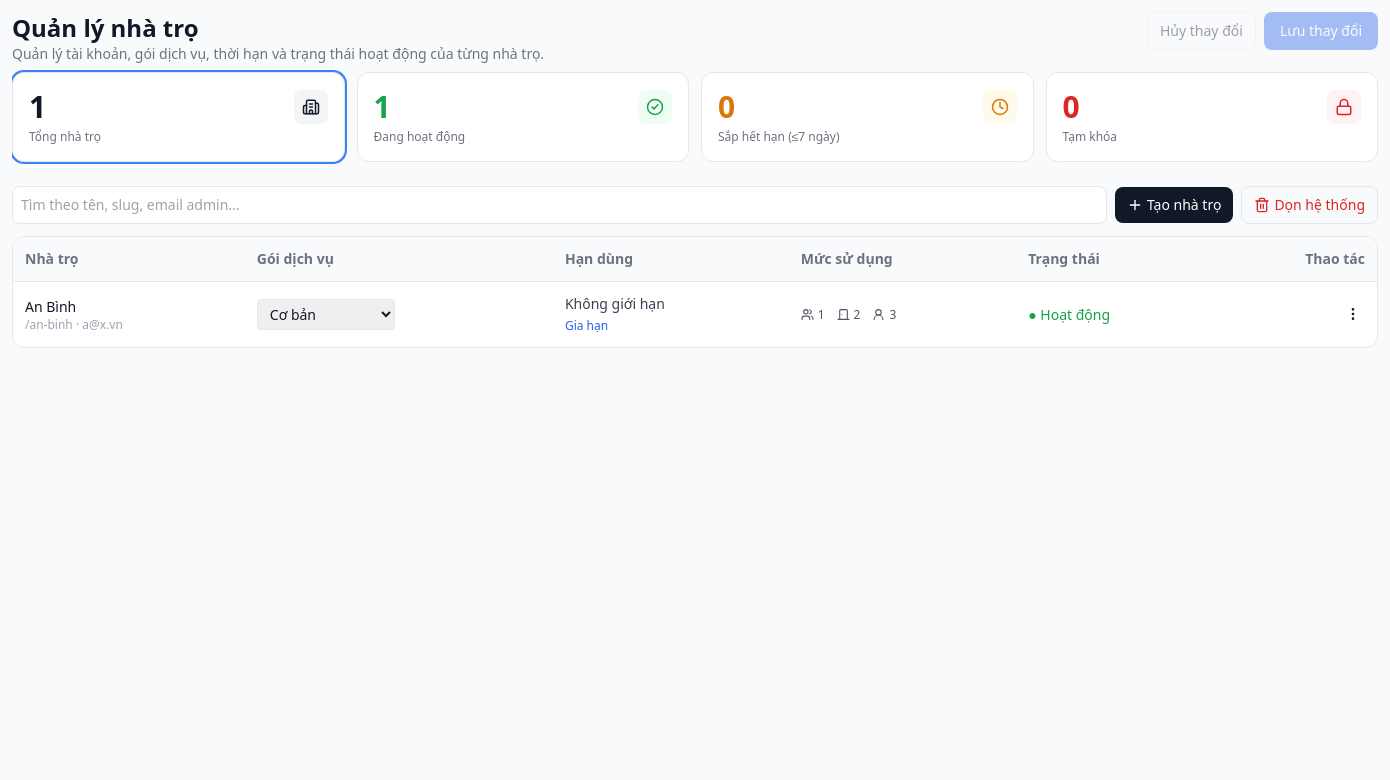
Test: Trang Quản lý nhà trọ › Hủy thay đổi xoá draft (nút Lưu disabled trở lại)
This screenshot has width=1390, height=780.
Expected: the text "An Bình" is shown, [25,296,76,316]
Select "Chuyên nghiệp" in the dropdown: (326, 314) [257,299,395,330]
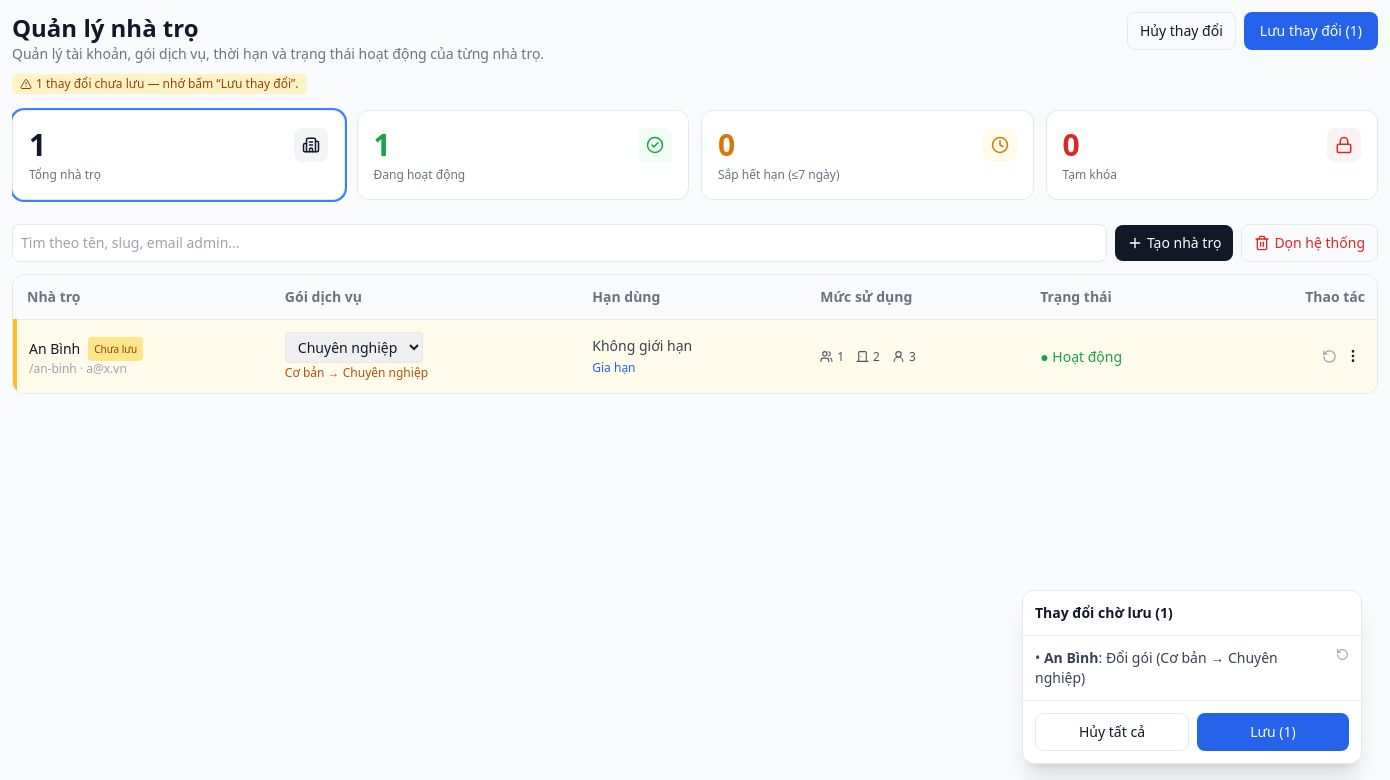
Now the button "Lưu thay đổi (1)" is enabled, box [1244,12,1378,50]
Click the button "Hủy thay đổi": (1181, 31) [1127,12,1236,50]
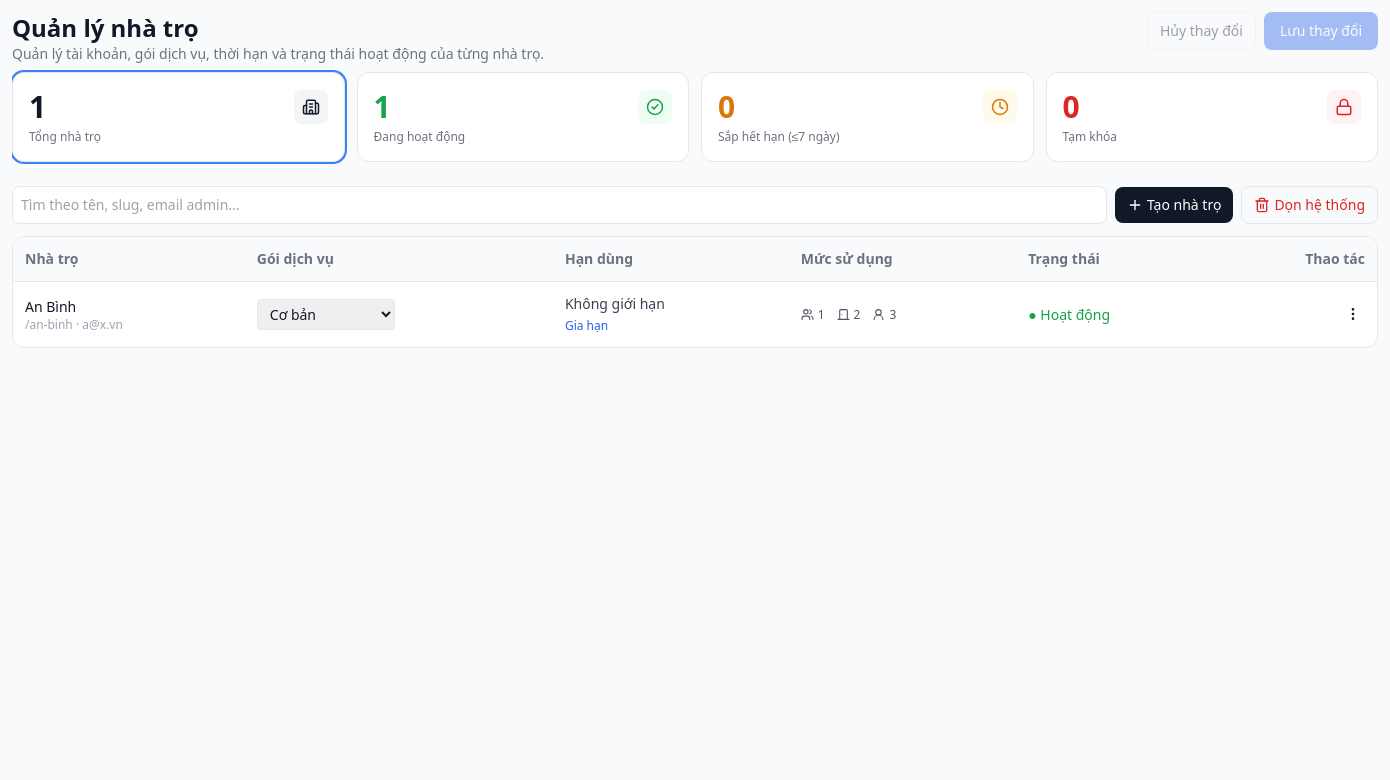
Expected: the text "An Bình" is shown, [25,296,76,316]
Now the button "Lưu thay đổi" is disabled, box [1264,12,1378,50]
